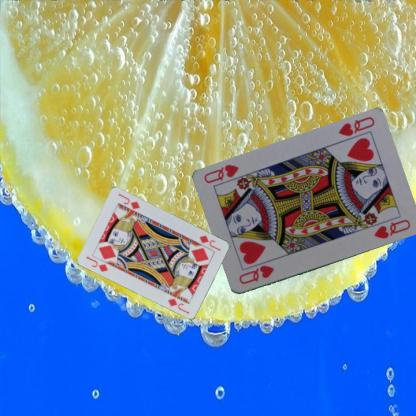Jd: (197, 232, 222, 252), (84, 254, 109, 273)
Qh: (335, 114, 376, 138), (235, 263, 276, 286)
